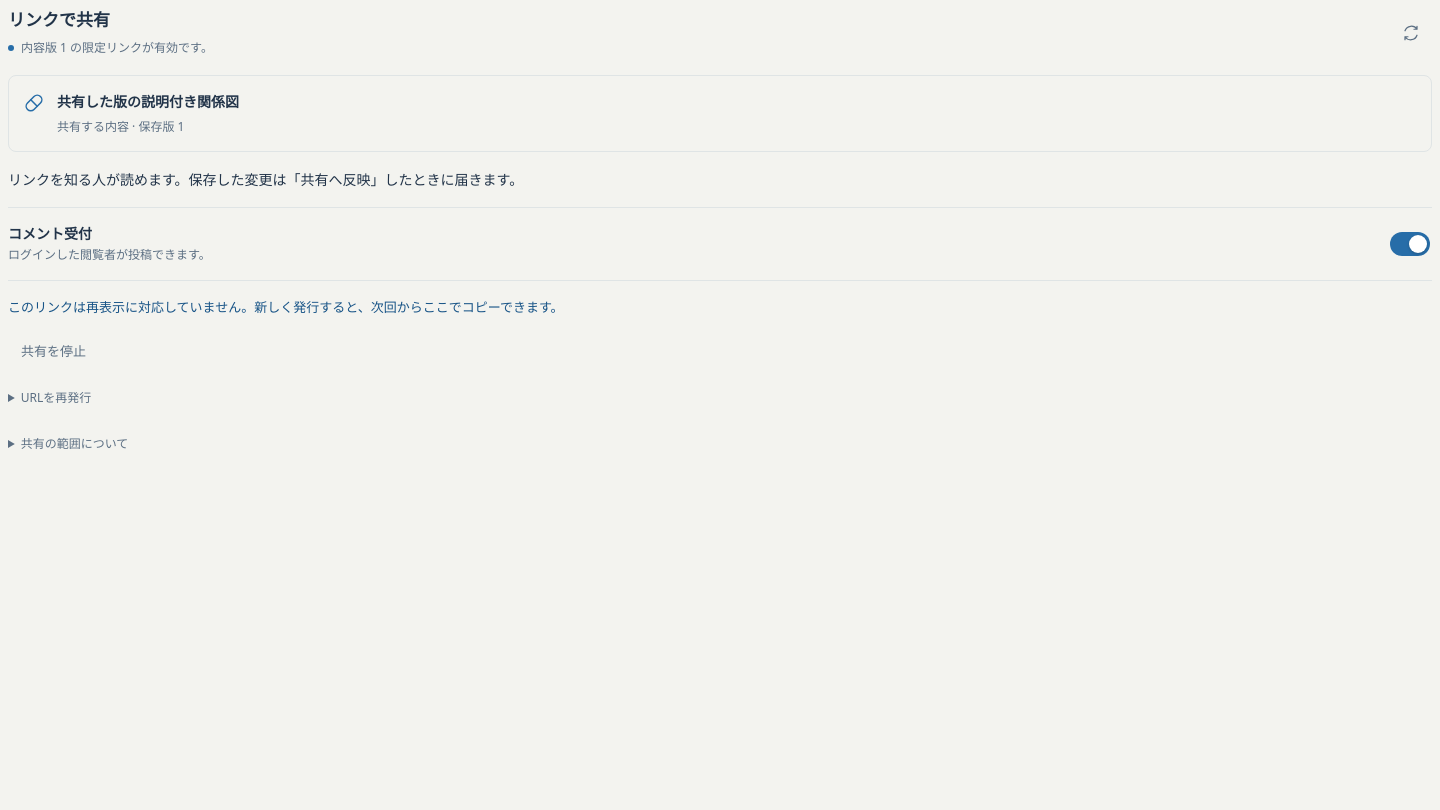
Test: 限定共有の所有者操作 › 再取得不能な旧リンクだけに移行案内を出し、別リンクへの更新後は古いURLを残さない
expect the text "内容版 1 の限定リンクが有効です。" is shown: met, box left=8, top=38, right=213, bottom=57
expect the switch named "コメント受付" is enabled: met, box left=1388, top=222, right=1432, bottom=266
Click the button named "共有状態を再確認" at (1414, 33), box left=1396, top=15, right=1432, bottom=51
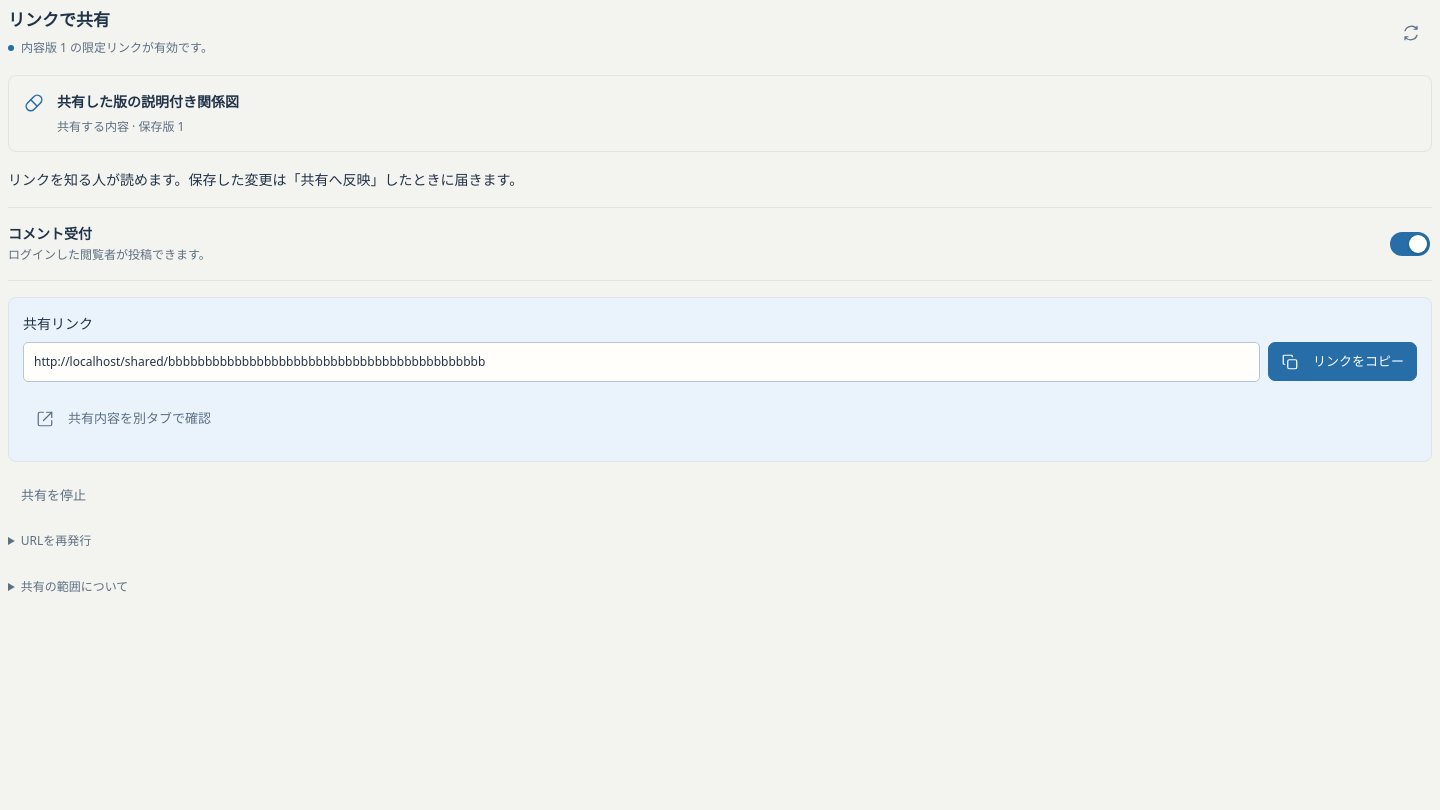
expect the text "このリンクは再表示に対応していません" is gone: met
